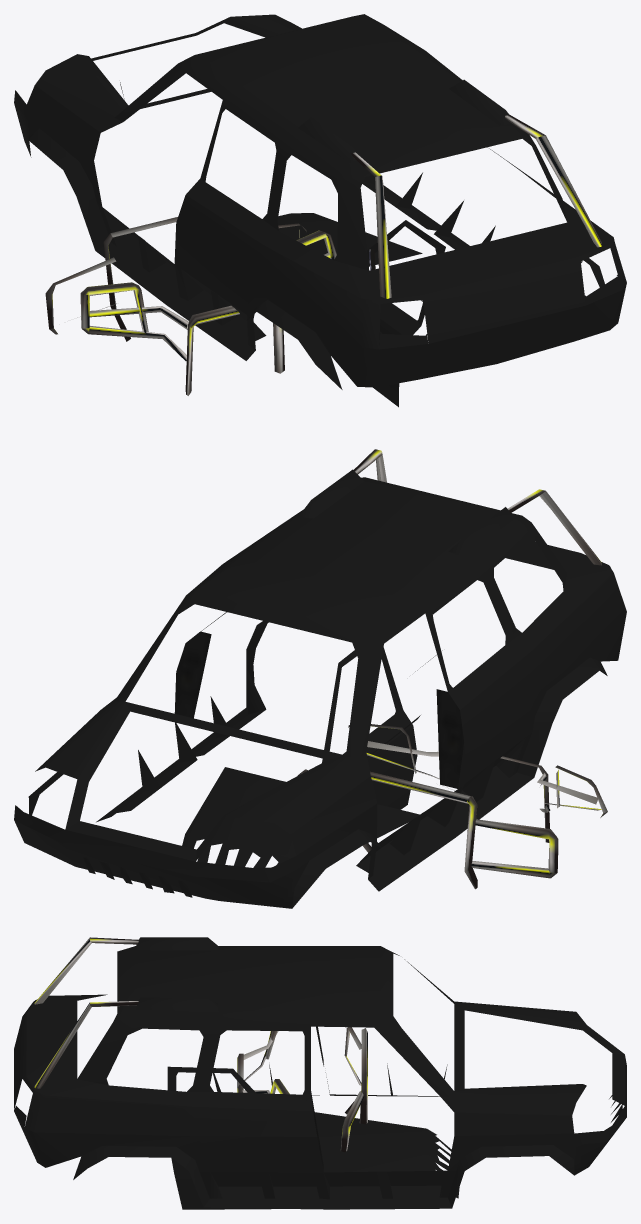
File: car-HEVY_Car4.glb
The picture shows the model from 3 angles, top to bottom: view 1: azimuth 30°, elevation 25°; view 2: azimuth 150°, elevation 25°; view 3: azimuth 270°, elevation 25°; orthographic projection. The views are drawn at different scales.
Visible parts, largest first — view 1: HEVY_Car4; view 2: HEVY_Car4; view 3: HEVY_Car4.
Part boxes in pixels (bbox=[...]): HEVY_Car4: bbox=[14, 14, 626, 407]; HEVY_Car4: bbox=[14, 449, 626, 908]; HEVY_Car4: bbox=[14, 937, 626, 1209].
Size of the model in its own units: 3.39 by 2.31 by 5.33.
Materials: 6 (6 with a texture image).
